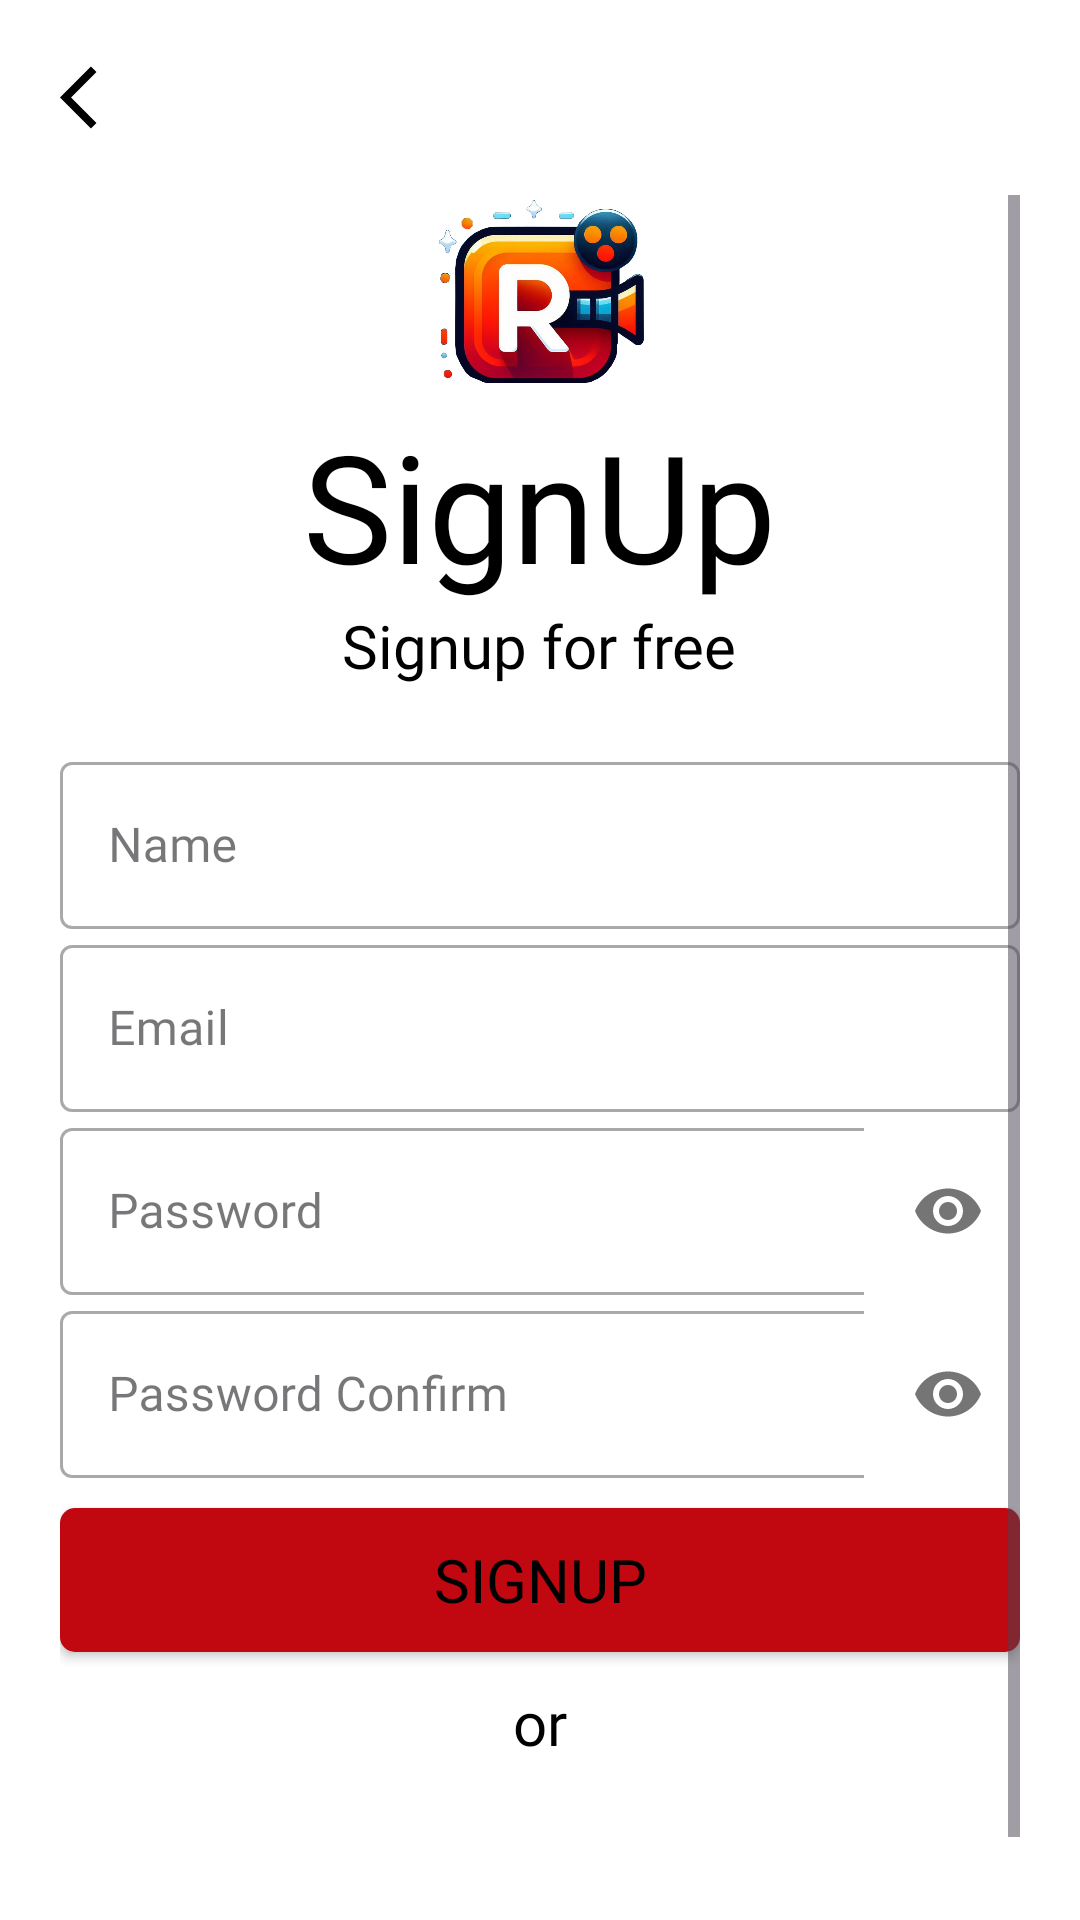

Locate icon controls on the screen. Image size 1080px x 1920px, boxes as (x1, y1, x2, y2).
arrow back: (60, 66, 97, 129)
